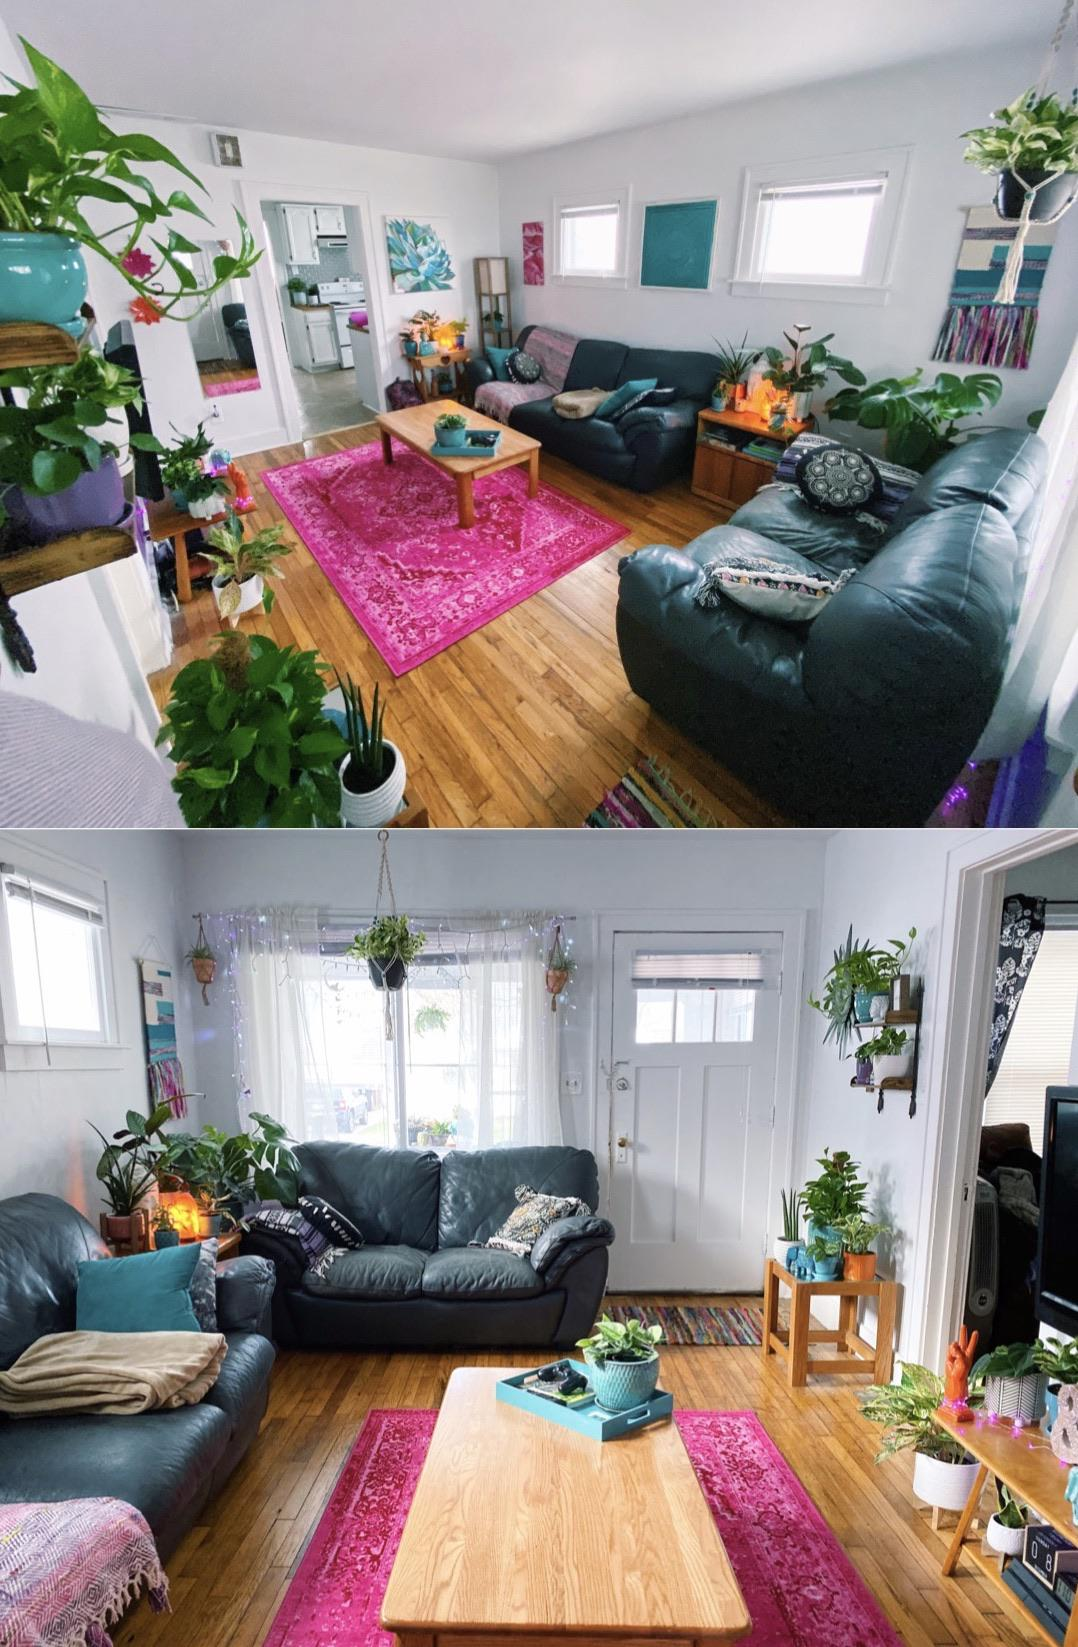biru: (515, 1356, 673, 1442), (646, 209, 711, 286), (436, 417, 466, 448)
coklat: (383, 1359, 753, 1647), (377, 399, 540, 519), (758, 1261, 898, 1390), (849, 1251, 878, 1282)
hijau: (77, 1243, 200, 1323), (1, 227, 91, 325)
hitam: (670, 431, 1033, 763), (272, 1153, 606, 1327)
pink: (265, 463, 617, 582)
putih: (345, 743, 410, 823), (910, 1455, 965, 1506)
